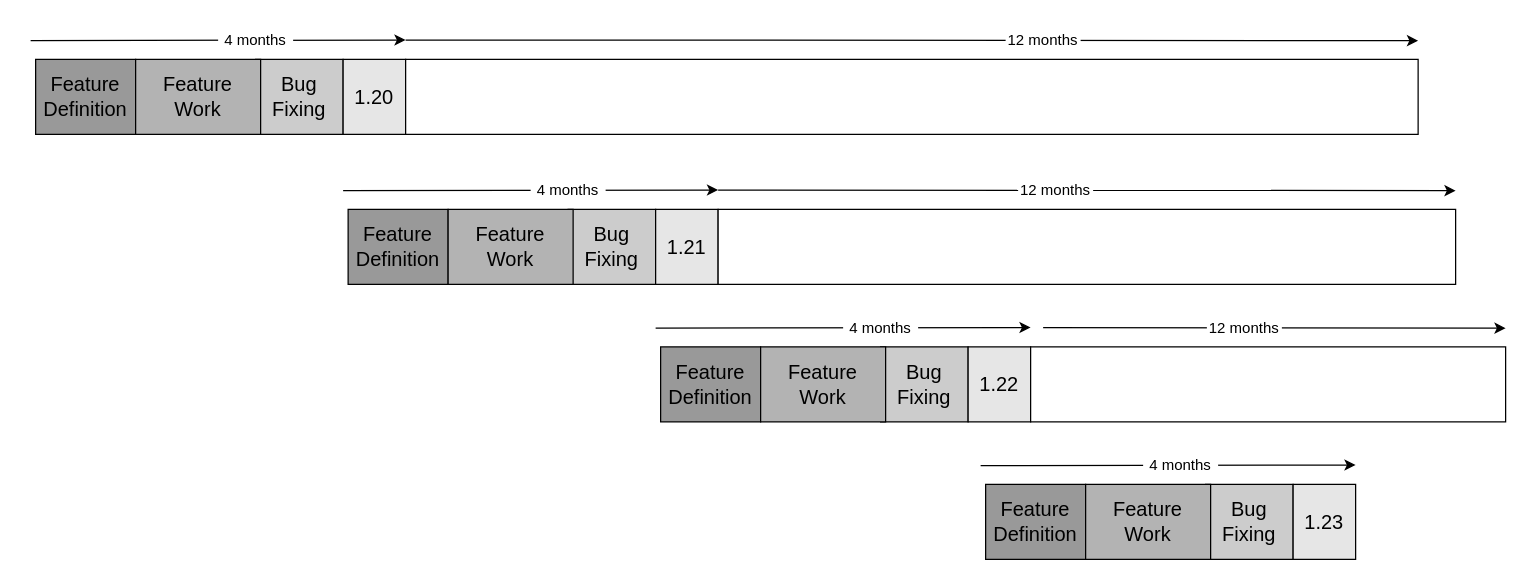
Some shapes in this 1538 by 581 pixel diagram are drawn without their labels. Here are the shapes that lost their labels. From the top down, the centre of each, then its label:
At (911,96): "1.20.x Patch Releases".
At (1086,246): "1.21.x Patch Releases".
At (1267,384): "1.22.x Patch Releases".
